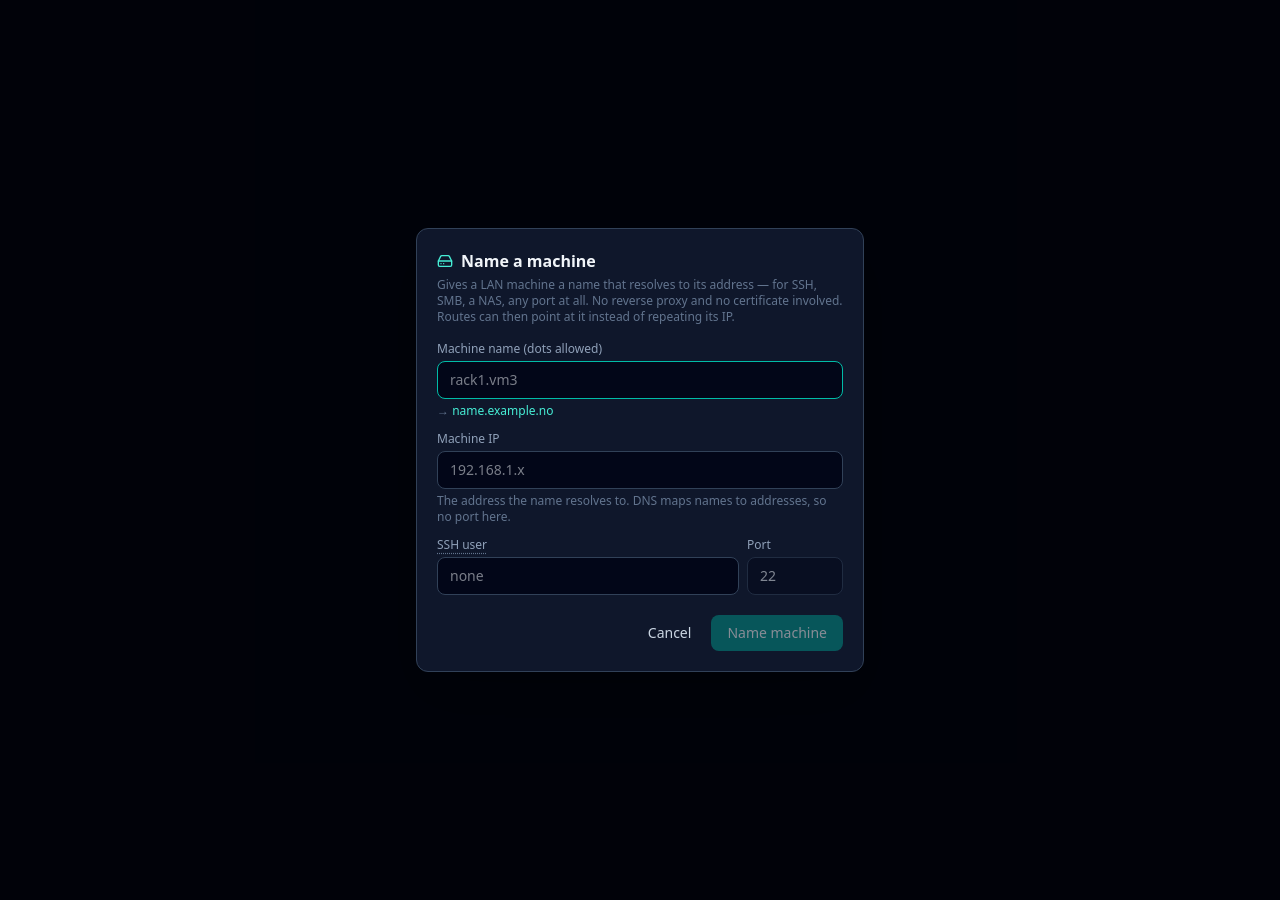
submit stays disabled until both fields are valid
Expected: the button "Name machine" is disabled, [711,615,843,651]
Type "nas" into the field with placeholder "rack1.vm3" at (640, 380), box [437,361,843,399]
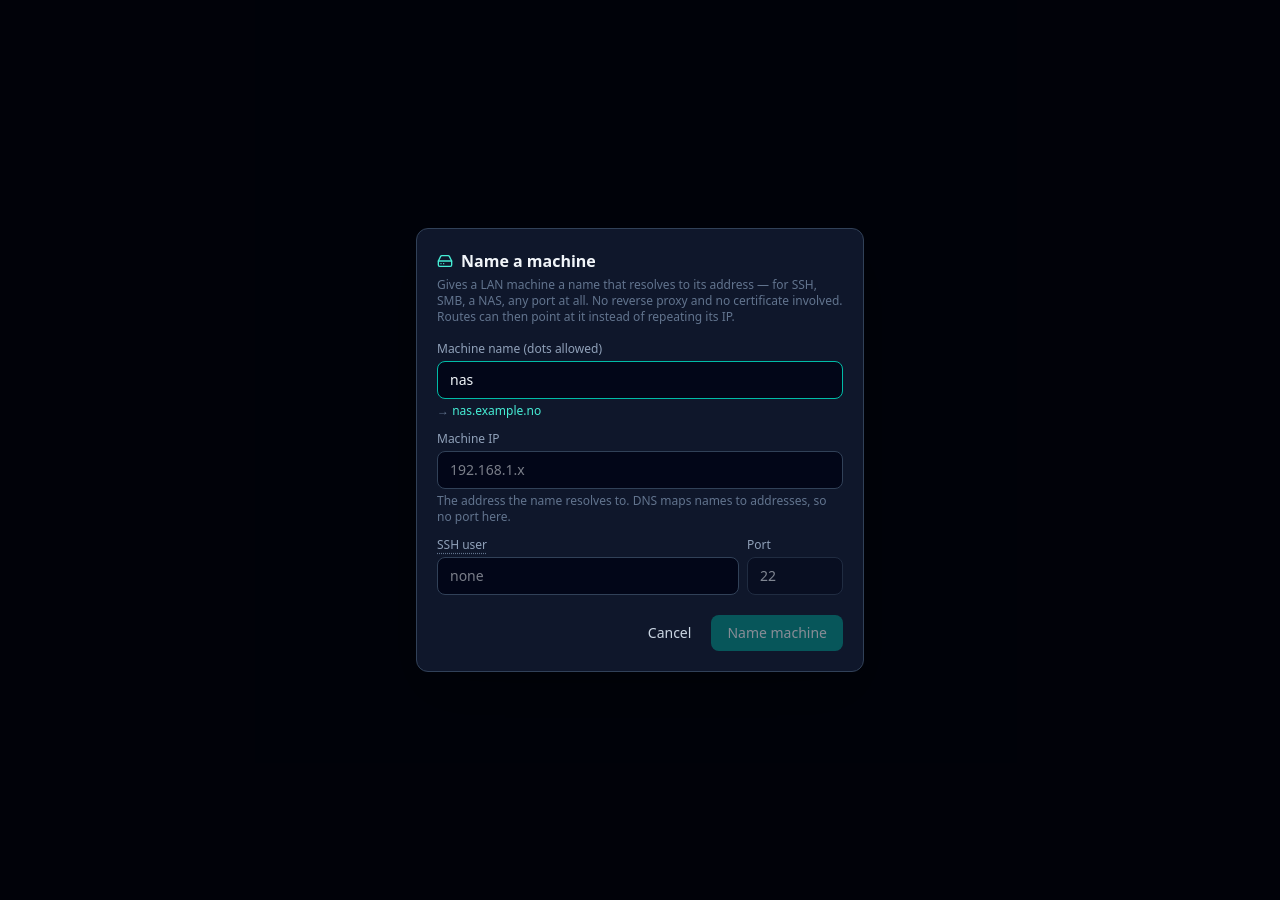
Expected: the button "Name machine" is disabled, [711,615,843,651]
Type "192.168.10.50" into the field with placeholder "192.168.1.x" at (640, 470), box [437,451,843,489]
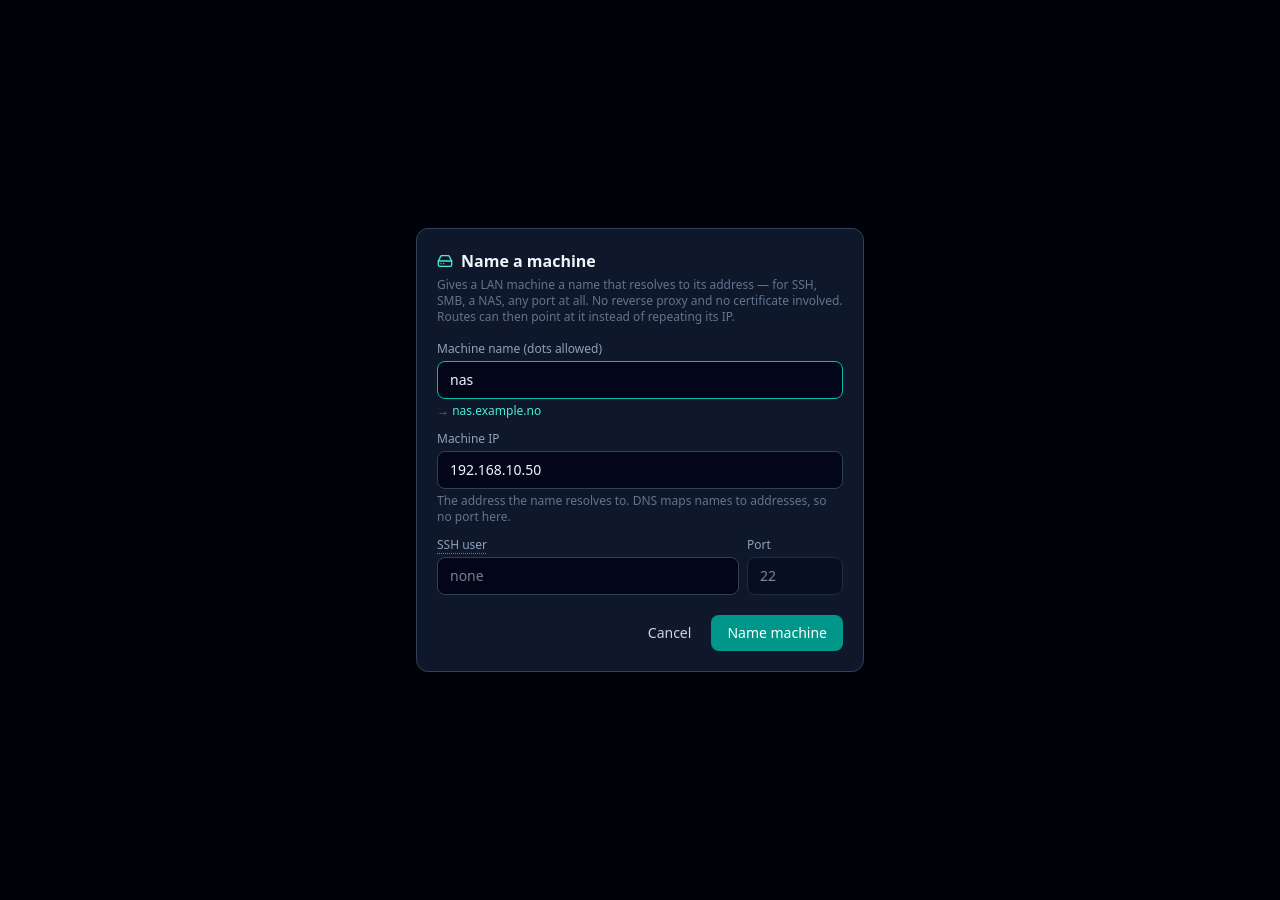
Now the button "Name machine" is enabled, box [711,615,843,651]
